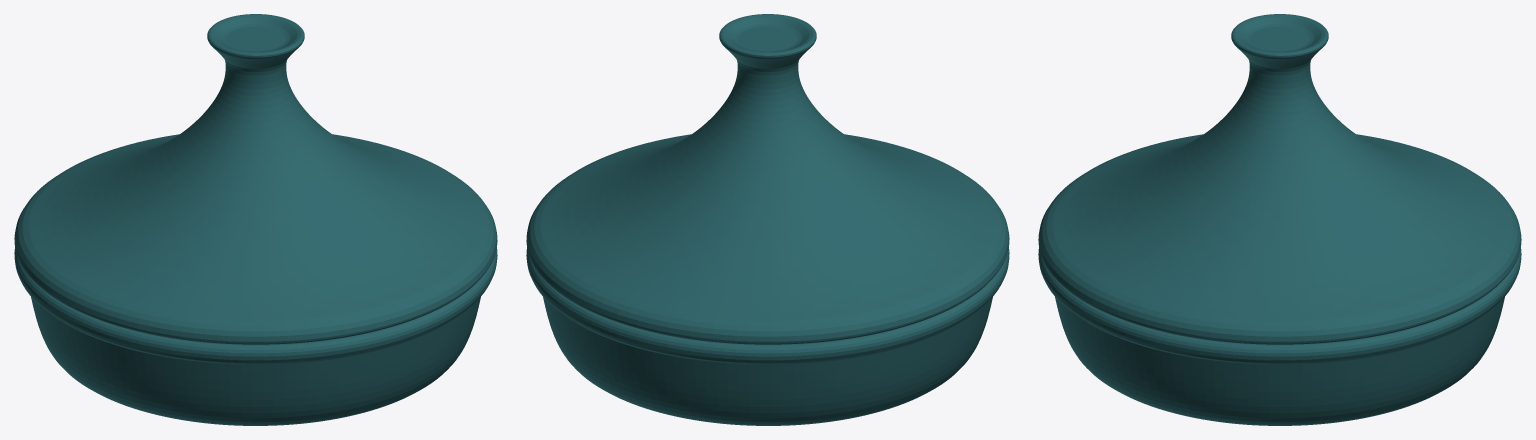
The model's file is NEW600_ceramic_tagine_LOD0.glb.
3 renders of one model, left to right at view 1: azimuth 30°, elevation 25°; view 2: azimuth 150°, elevation 25°; view 3: azimuth 270°, elevation 25°, orthographic.
Visible parts, largest first — view 1: Concave_lid_integral_grip, Ceramic_vessel; view 2: Concave_lid_integral_grip, Ceramic_vessel; view 3: Concave_lid_integral_grip, Ceramic_vessel.
Boxes of the visible parts, x1,y1,x2,y2 form: Concave_lid_integral_grip: (14, 14, 497, 344); Ceramic_vessel: (14, 247, 497, 425); Concave_lid_integral_grip: (526, 14, 1009, 344); Ceramic_vessel: (526, 247, 1009, 425); Concave_lid_integral_grip: (1038, 14, 1521, 344); Ceramic_vessel: (1038, 247, 1521, 425).
Size of the model in its own units: 0.325 by 0.23 by 0.325.
